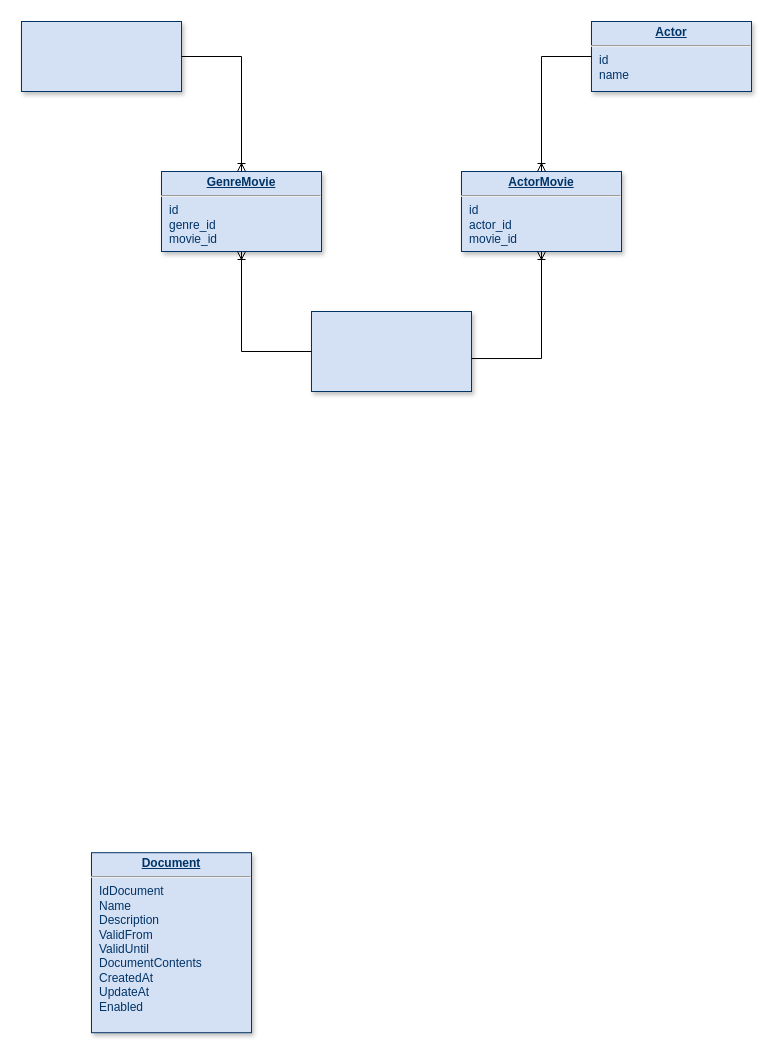
Image size: 775x1058. Some labels were removed from this diagram. The shapes that lost their labels are listed below. From the top down, each one's centre as x and y in pixels, then its label:
At pixel 102 57: "Genre id name".
At pixel 392 352: "Movie id title year".
